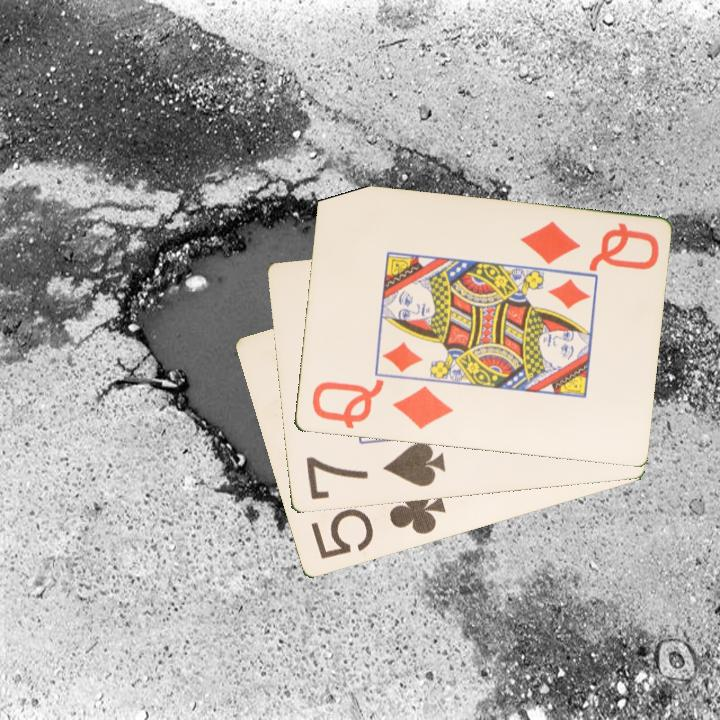5c: (307, 483, 449, 563)
7s: (302, 439, 448, 504)
Qd: (516, 217, 663, 274), (307, 377, 456, 433)
